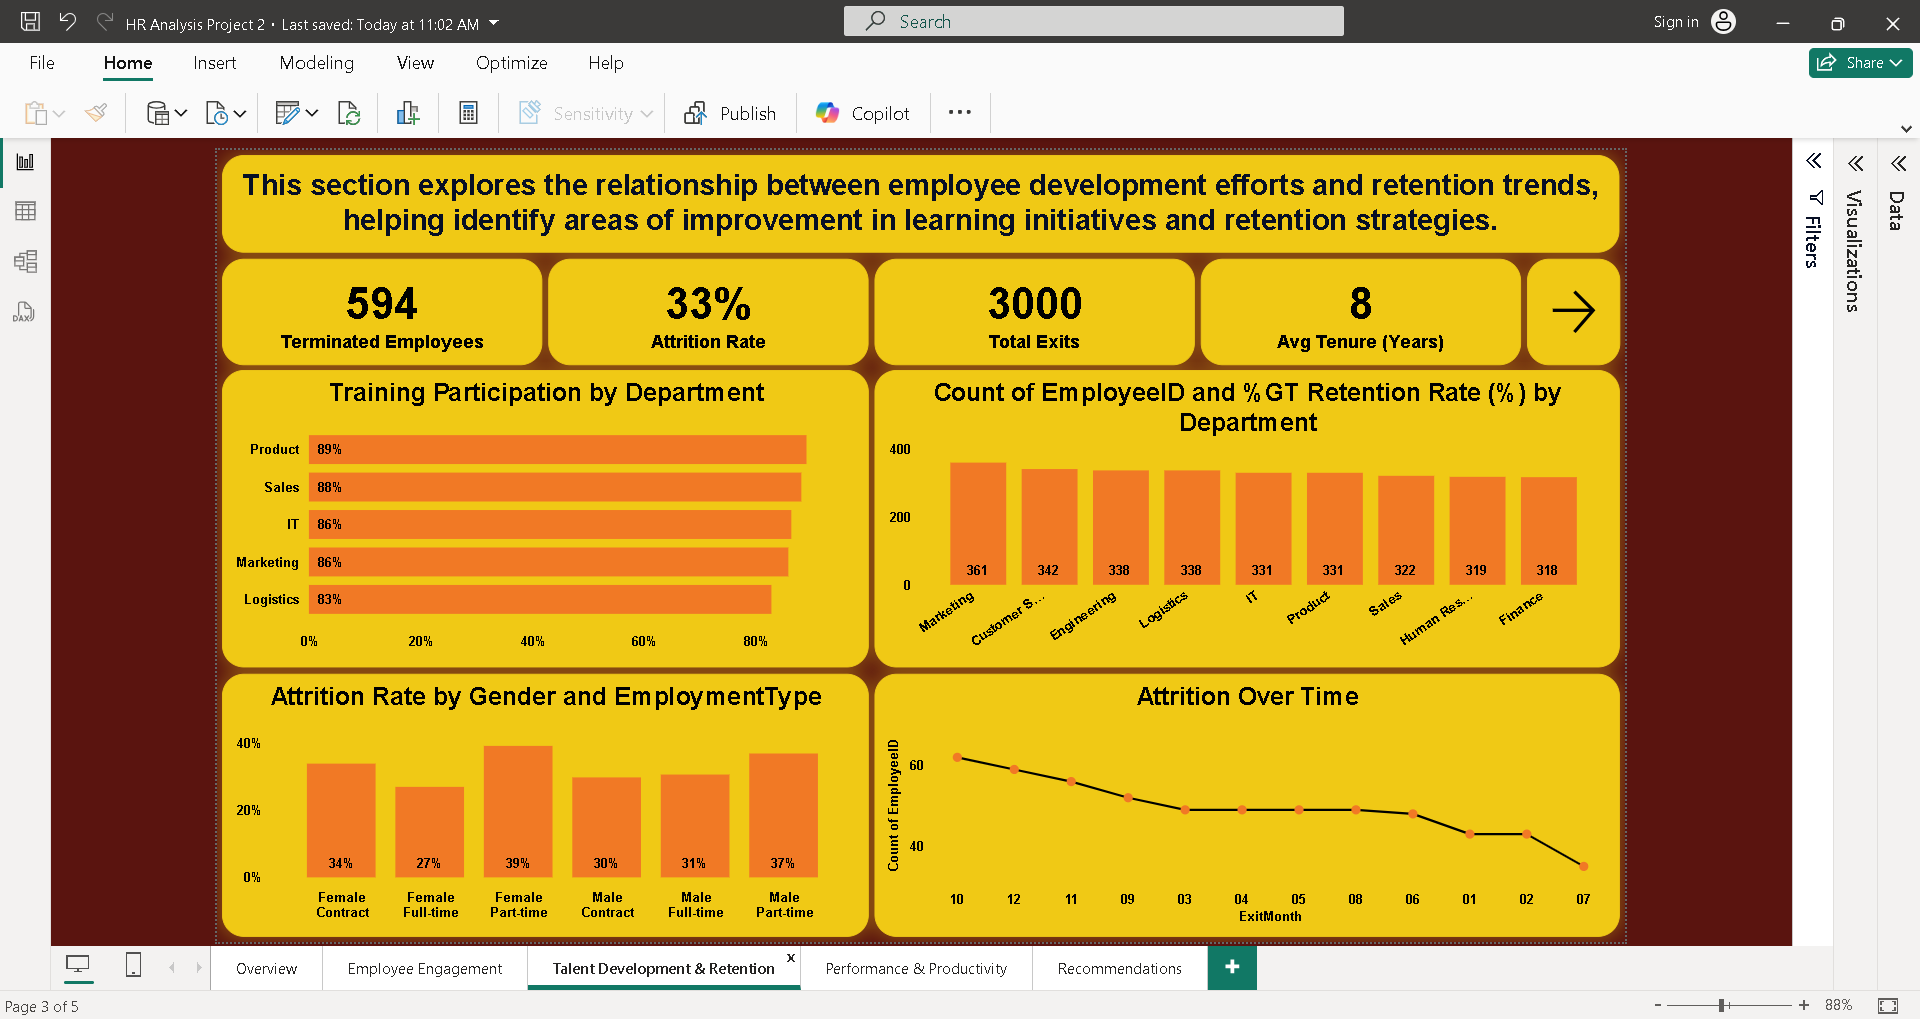

What the dashboard file says about the page in this screenshot:
{"tool":"powerbi","page":{"name":"Talent Development & Retention","canvas":[1280,720],"ordinal":2},"visuals":[{"type":"card","fields":{"Values":["HR_Metrics.Terminated Employees"]},"box":[5,98.4,291.4,97.1],"z":0},{"type":"card","fields":{"Values":["HR_Metrics.Attrition Rate"]},"box":[301.4,98.4,291.4,97.1],"z":1000},{"type":"card","fields":{"Values":["HR_Metrics.Average Tenure"]},"box":[894.2,98.4,291.4,97.1],"z":2000},{"type":"card","fields":{"Values":["HR_Metrics.Total Exits"]},"box":[597.8,98.4,291.4,97.1],"z":3000},{"type":"clusteredBarChart","title":"Training Participation by Department","fields":{"Category":["Dim_Employee.Department"],"Y":["HR_Metrics.% Employees Trained"]},"box":[5,200.5,587.8,270.2],"z":4000},{"type":"columnChart","fields":{"Category":["Dim_Employee.Department"],"Y":["CountNonNull(Dim_Employee.EmployeeID)","HR_Metrics.Retention Rate (%)"]},"box":[597.8,200.5,677.5,270.2],"z":5000},{"type":"clusteredColumnChart","fields":{"Category":["Dim_Employee.Gender","Dim_Employee.EmploymentType"],"Y":["HR_Metrics.Attrition Rate"]},"box":[5,475.7,587.8,239.1],"z":6000},{"type":"lineChart","title":"Attrition Over Time","fields":{"Category":["Dim_Employee.ExitMonth"],"Y":["CountNonNull(Dim_Employee.EmployeeID)"]},"box":[597.8,475.7,677.5,239.1],"z":7000},{"type":"textbox","box":[5,5,1270.3,88.4],"z":8000},{"type":"actionButton","box":[1190.6,98.4,84.7,97.1],"z":9000}]}

Visuals, with their boxes on the page's 1280x720 design canvas (x1, y1, x2, y2). These are canvas units, not pixel positions in the 1920x1019 screenshot, which may show the page scaled, cropped or inside an application window:
card - HR_Metrics.Terminated Employees: <bbox>5, 98, 296, 196</bbox>
card - HR_Metrics.Attrition Rate: <bbox>301, 98, 593, 196</bbox>
card - HR_Metrics.Average Tenure: <bbox>894, 98, 1186, 196</bbox>
card - HR_Metrics.Total Exits: <bbox>598, 98, 889, 196</bbox>
"Training Participation by Department" clusteredBarChart: <bbox>5, 200, 593, 471</bbox>
columnChart - Dim_Employee.Department x CountNonNull(Dim_Employee.EmployeeID): <bbox>598, 200, 1275, 471</bbox>
clusteredColumnChart - Dim_Employee.Gender x Dim_Employee.EmploymentType: <bbox>5, 476, 593, 715</bbox>
"Attrition Over Time" lineChart: <bbox>598, 476, 1275, 715</bbox>
textbox: <bbox>5, 5, 1275, 93</bbox>
actionButton: <bbox>1191, 98, 1275, 196</bbox>
